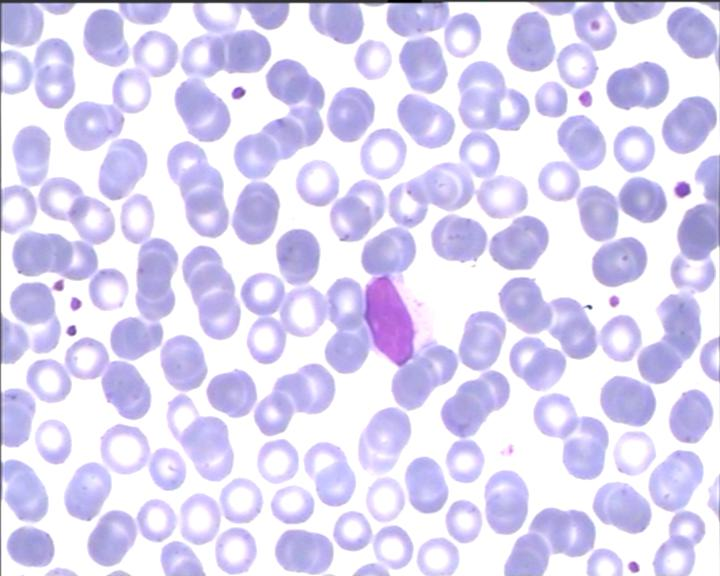mono: (349, 261, 444, 365)
